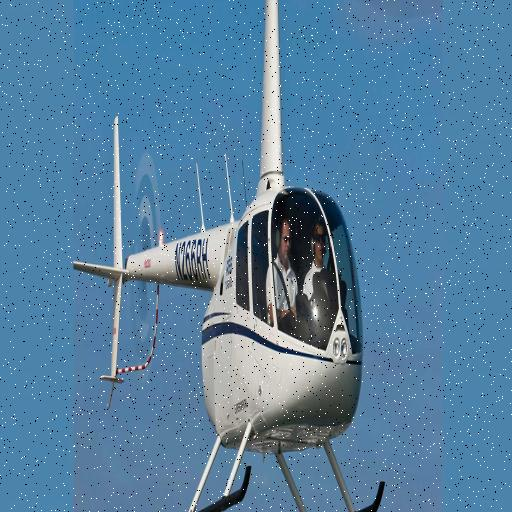helicopter: (68, 1, 432, 512)
